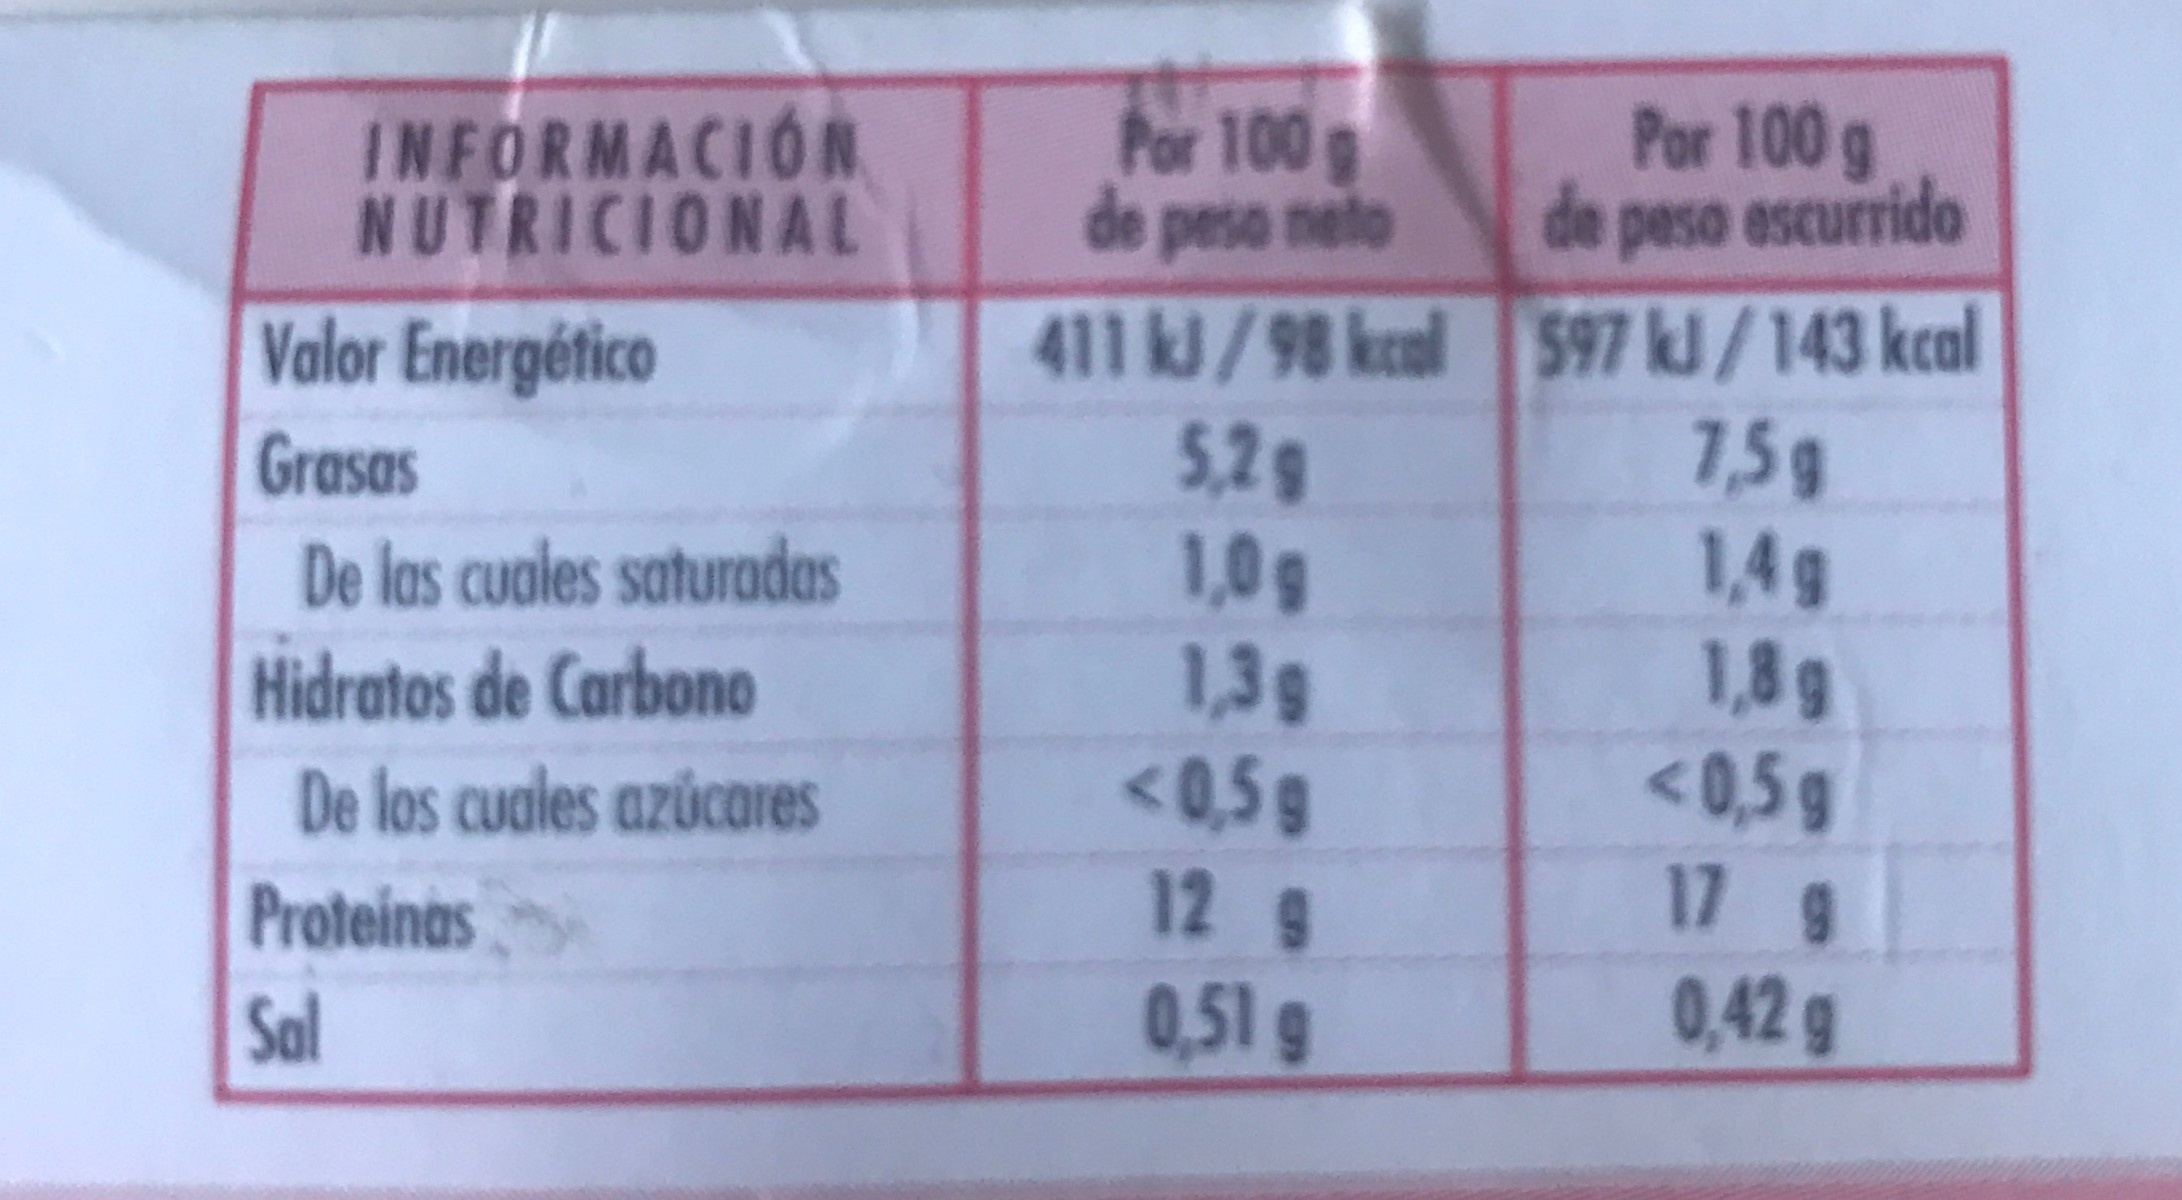column: (250, 115, 861, 1077), (1539, 105, 1980, 1061), (1027, 111, 1452, 1063)
table: (211, 58, 2037, 1104)
